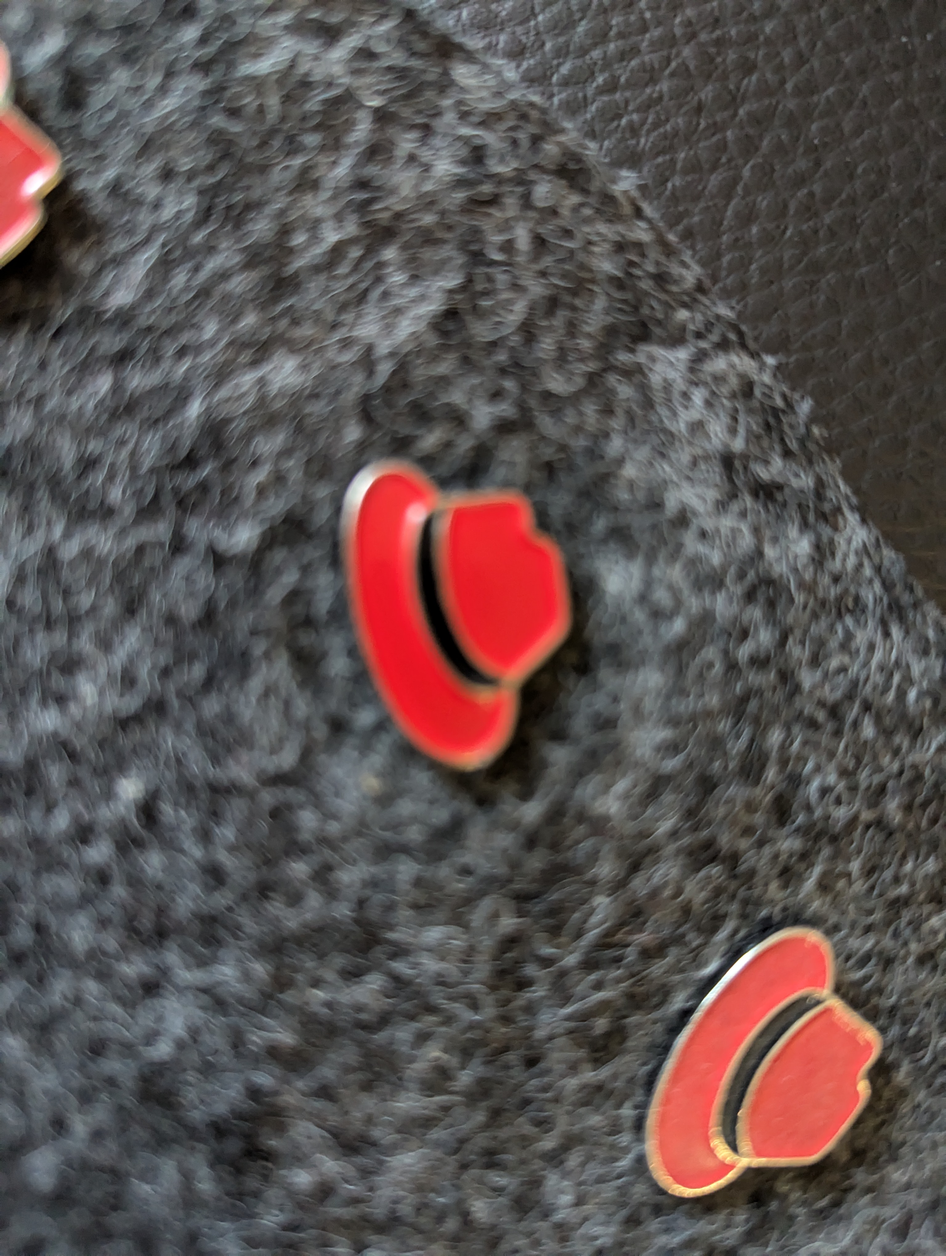Red-Hat: (274, 397, 649, 842), (606, 898, 911, 1227)
